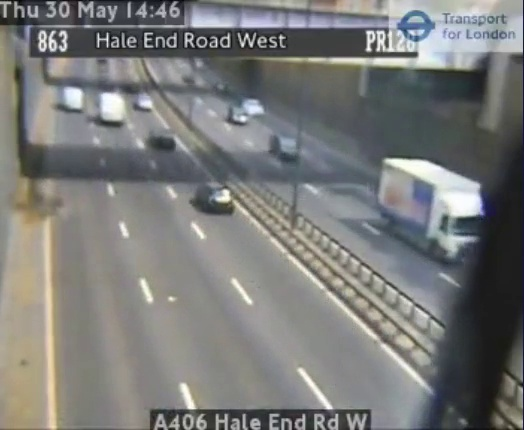car: (195, 182, 234, 213)
van: (98, 93, 123, 124)
